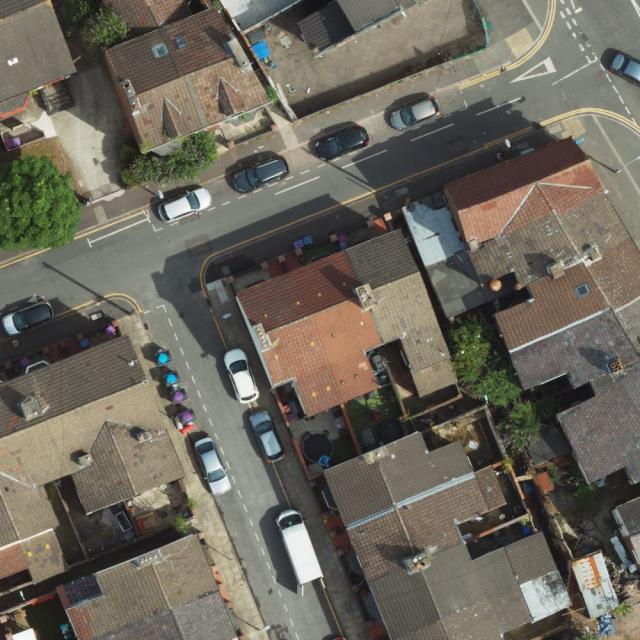roof: (446, 135, 640, 482), (323, 429, 570, 640), (0, 333, 184, 585), (237, 228, 463, 419), (94, 0, 277, 157), (56, 529, 241, 640), (0, 0, 79, 101), (296, 0, 409, 59), (616, 495, 640, 565)
skylight: (573, 279, 594, 300), (153, 41, 170, 59), (174, 35, 189, 51)
